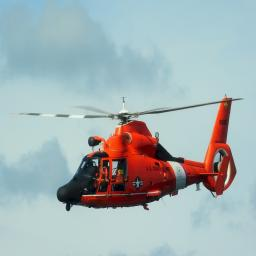helicopter: (19, 97, 246, 213)
